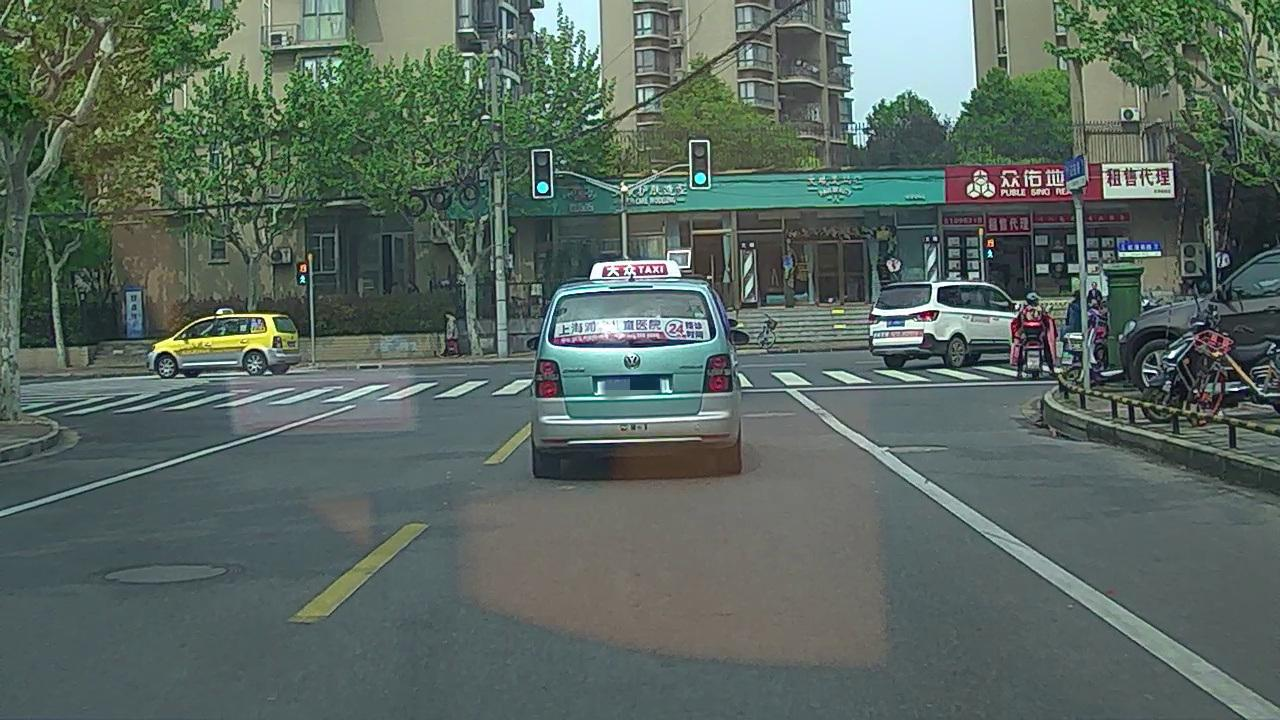traffic_light: (533, 152, 552, 196), (691, 141, 708, 187)
